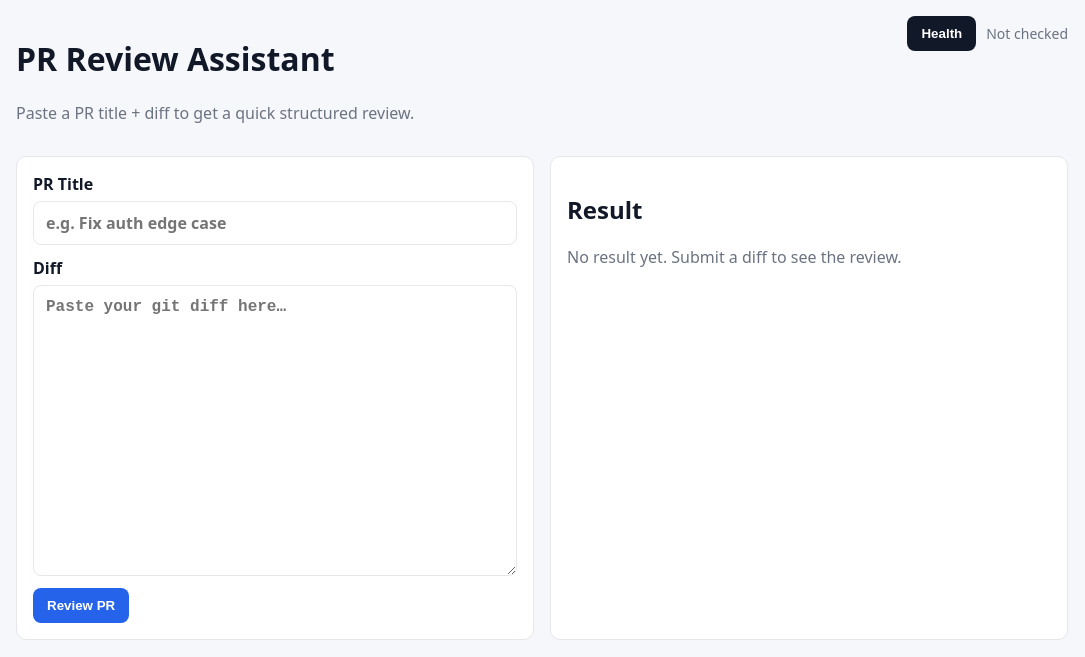
it: PR Review Assistant UI › renders the returned summary
In the field labelled "PR Title": (275,223) top-left (33, 201), bottom-right (517, 245), type "Change"
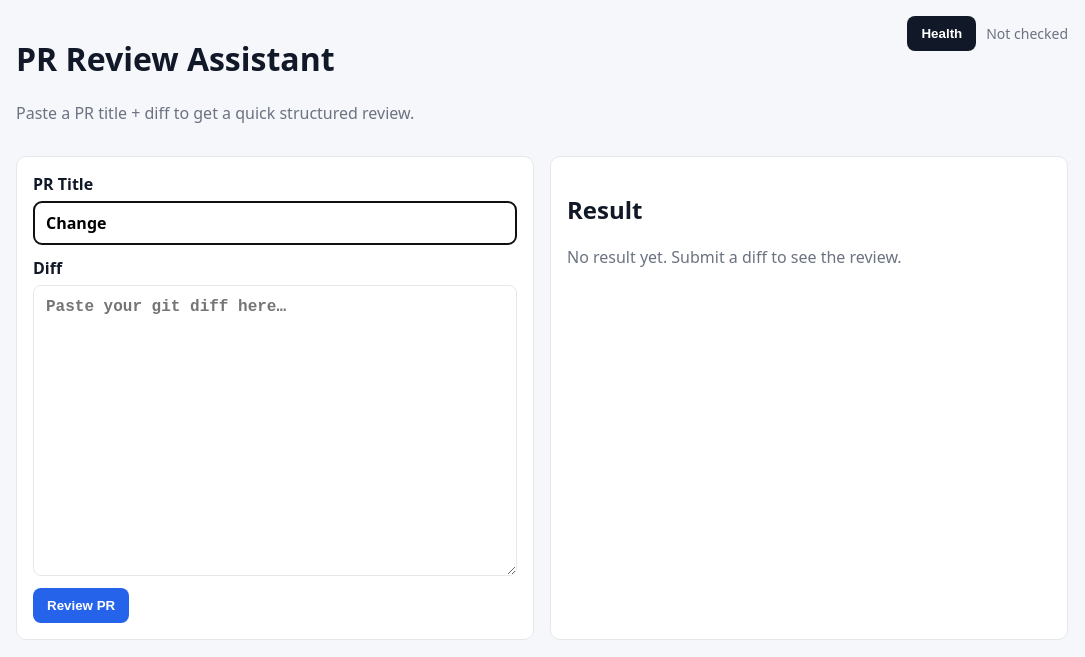
In the text box labelled "Diff": (275,430) top-left (33, 285), bottom-right (517, 576), type "+TODO: fix later"
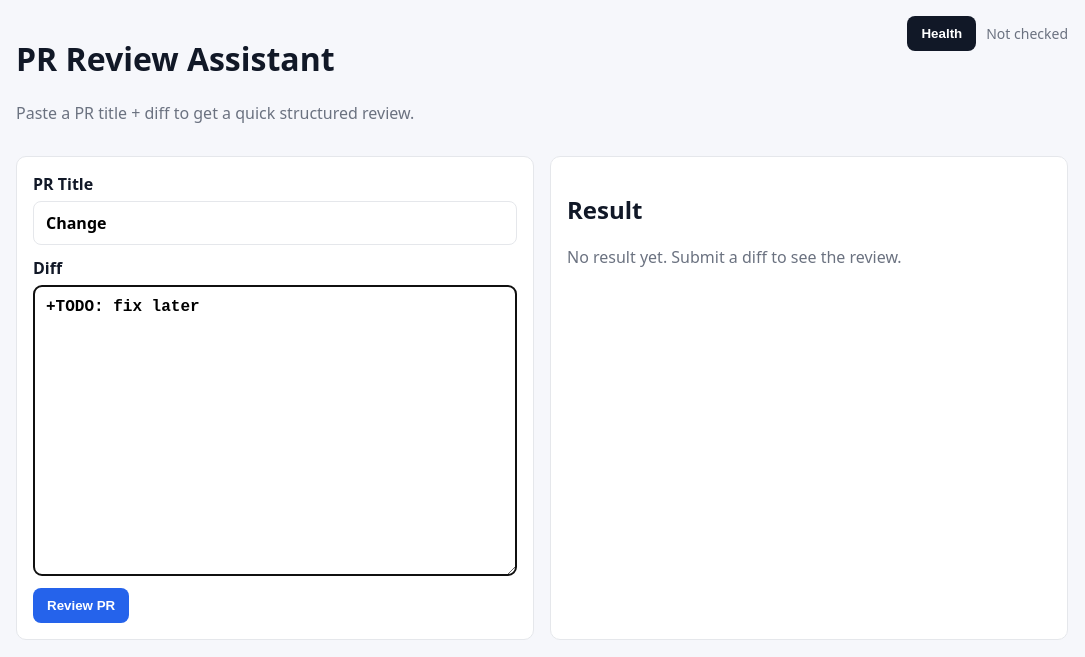
Click the button "Review PR": (81,605) top-left (33, 588), bottom-right (129, 623)
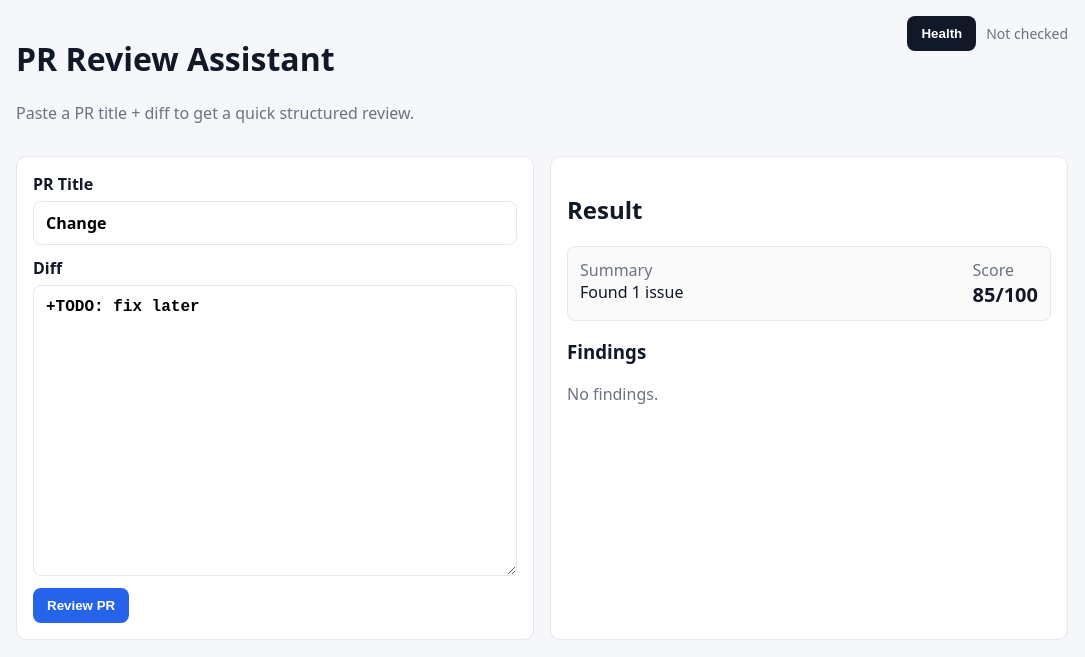
Result: the text "Found 1 issue" is shown at top-left (580, 281), bottom-right (684, 303)
